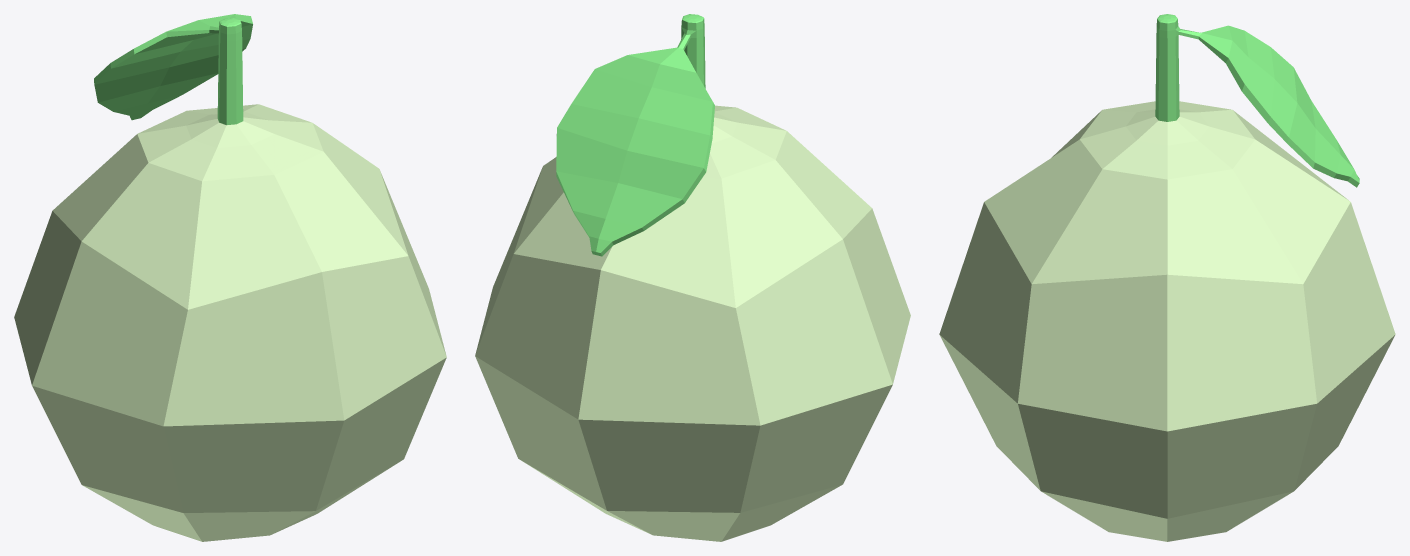
File: Limon.fbx
3 views of the same model, side by side, from view 1: azimuth 30°, elevation 25°; view 2: azimuth 150°, elevation 25°; view 3: azimuth 270°, elevation 25° (orthographic).
Visible parts, largest first — view 1: pCube1; view 2: pCube1; view 3: pCube1.
Boxes of the visible parts, box(x1,y1,x2,y2) form: pCube1: box(14, 14, 446, 541); pCube1: box(475, 14, 910, 541); pCube1: box(939, 14, 1395, 541).
Size of the model in its own units: 1.05 by 1.25 by 1.05.
